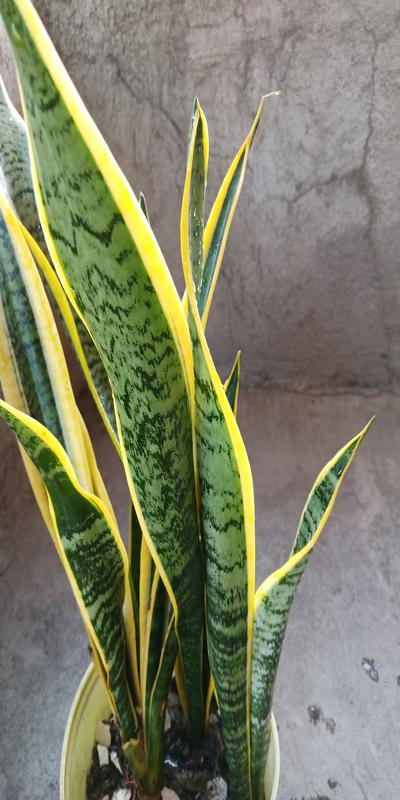Snake plant: (9, 22, 386, 765)
